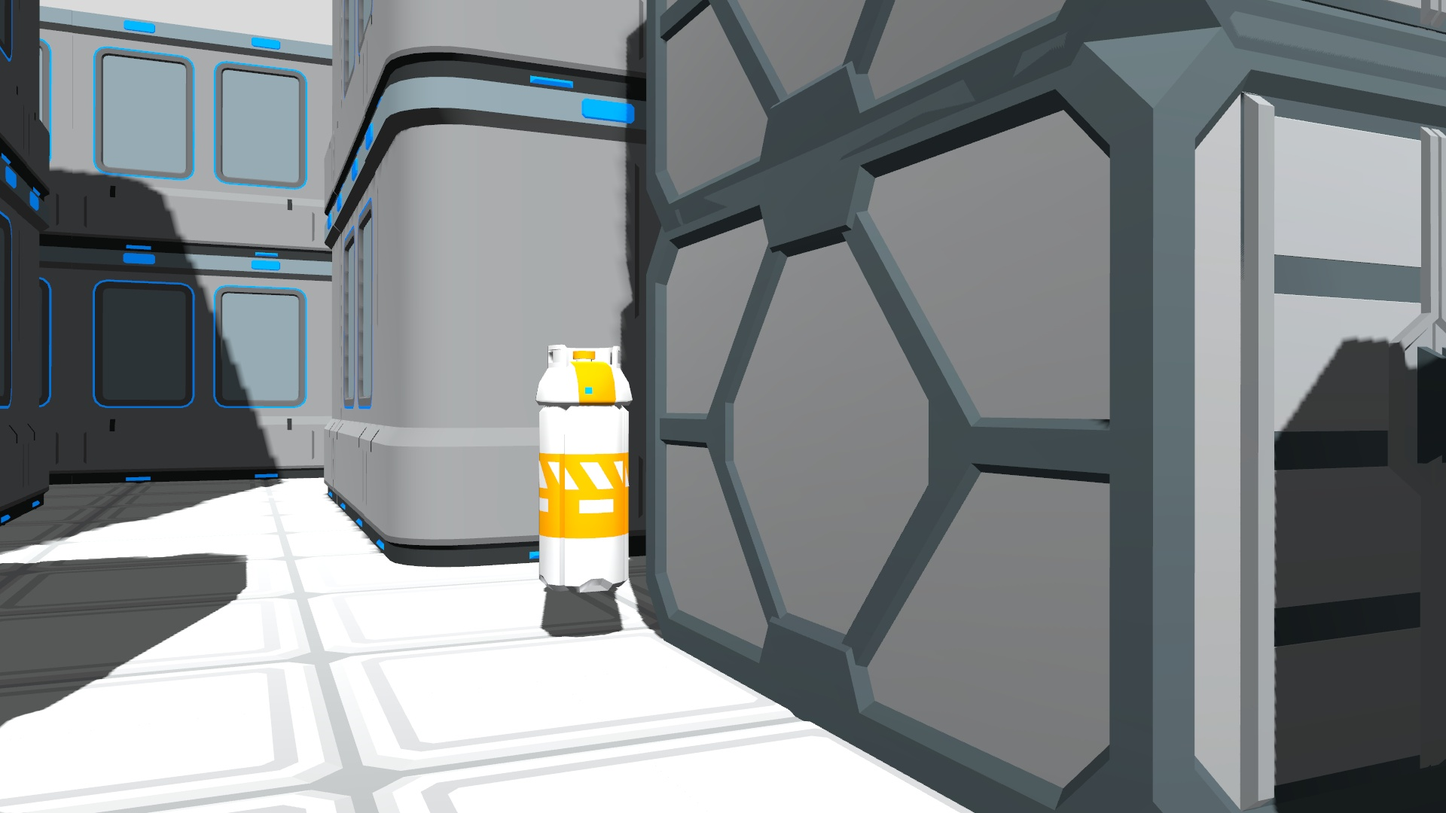yellow_barrel: (527, 338, 631, 604)
